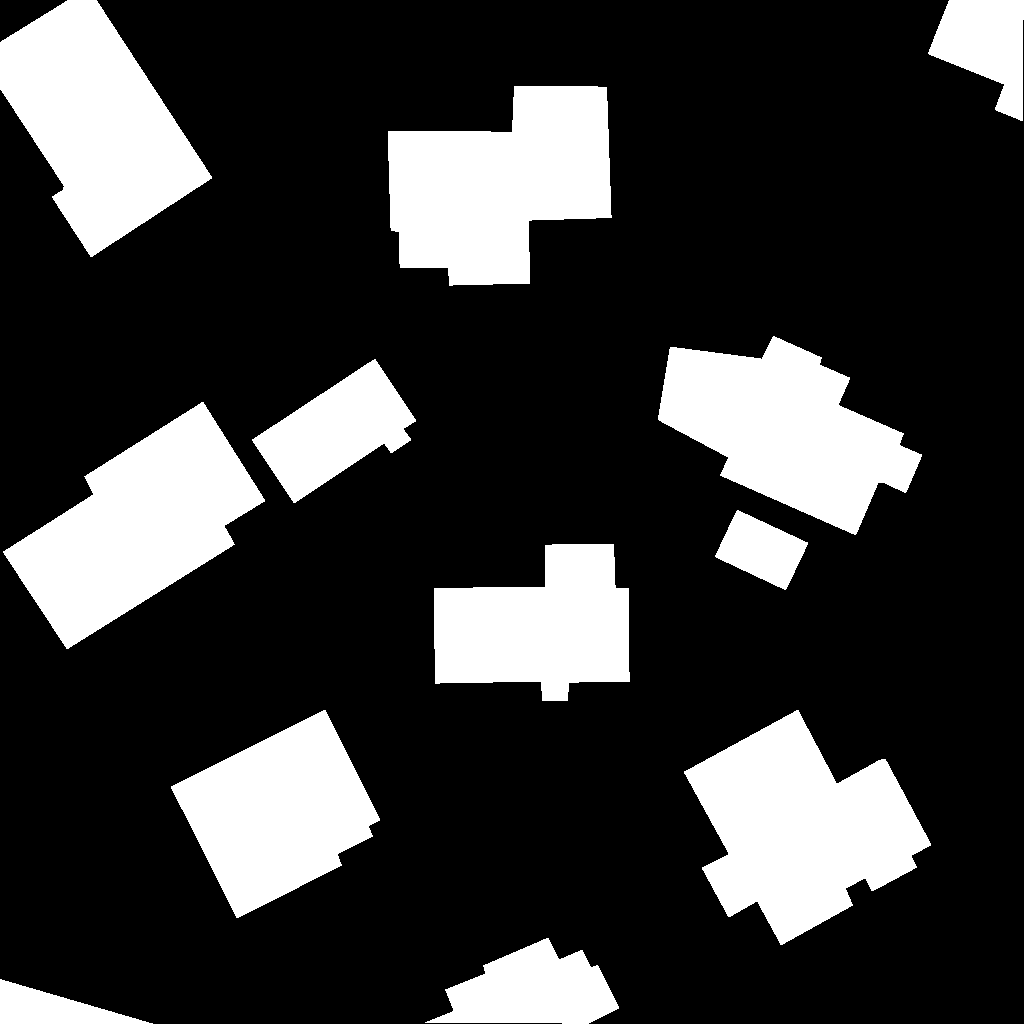building: (3, 402, 266, 650), (684, 710, 932, 946), (0, 0, 213, 258), (658, 336, 923, 536), (388, 86, 612, 286), (171, 710, 381, 919), (434, 544, 630, 701), (252, 359, 417, 504), (424, 938, 620, 1024), (928, 0, 1024, 122), (715, 510, 809, 591), (0, 979, 154, 1024)
